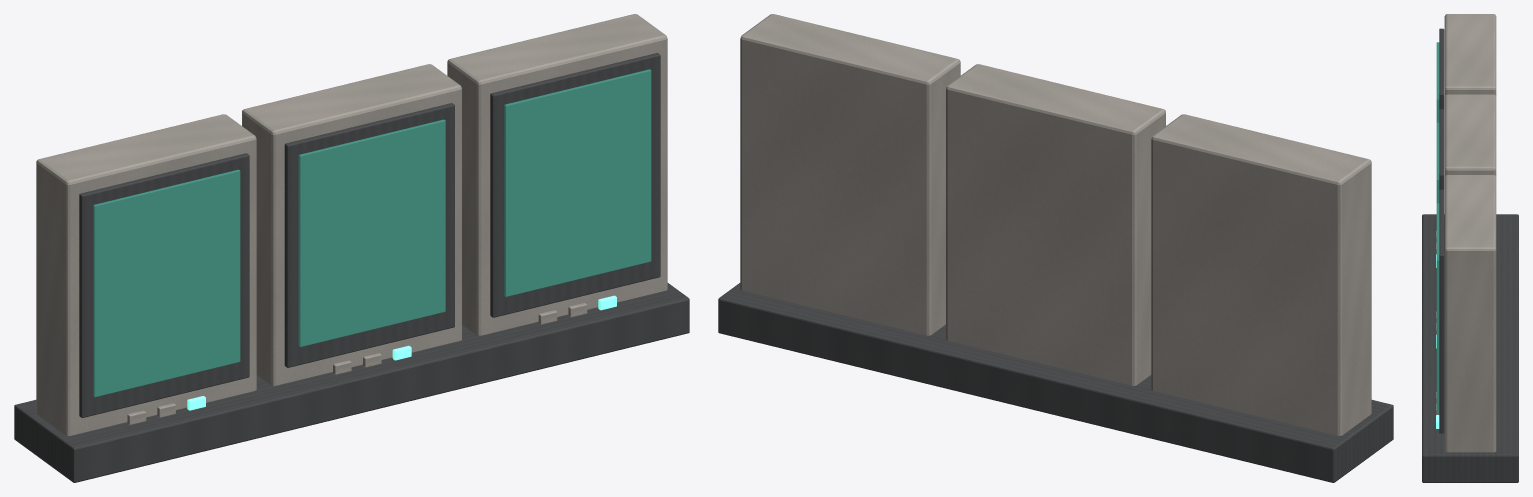
Rendered from monitor_bank.glb.
3 renders of one model, left to right at view 1: azimuth 30°, elevation 25°; view 2: azimuth 150°, elevation 25°; view 3: azimuth 270°, elevation 25°, orthographic. The views are drawn at different scales.
Visible parts, largest first — view 1: stand.003, monitor_screen_00.002, monitor_screen_01.002, monitor_screen_02.002, monitor_housing.009, monitor_housing.011, monitor_housing.010, monitor_bezel.007, monitor_bezel.006, monitor_bezel.008; view 2: monitor_housing.009, monitor_housing.011, monitor_housing.010, stand.003; view 3: monitor_housing.011, stand.003, monitor_housing.009, monitor_housing.010, monitor_bezel.008, monitor_screen_02.002, monitor_bezel.006, monitor_bezel.007, monitor_screen_00.002, monitor_screen_01.002.
Boxes of the visible parts, <box> form: stand.003: <box>14,283,689,482</box>; monitor_screen_00.002: <box>93,169,240,397</box>; monitor_screen_01.002: <box>298,119,445,346</box>; monitor_screen_02.002: <box>504,69,651,296</box>; monitor_housing.009: <box>36,114,256,435</box>; monitor_housing.011: <box>447,14,667,335</box>; monitor_housing.010: <box>242,64,461,385</box>; monitor_bezel.007: <box>284,103,454,367</box>; monitor_bezel.006: <box>79,153,249,417</box>; monitor_bezel.008: <box>490,53,660,317</box>; monitor_housing.009: <box>1151,114,1371,435</box>; monitor_housing.011: <box>740,14,960,335</box>; monitor_housing.010: <box>946,64,1165,385</box>; stand.003: <box>718,283,1393,482</box>; monitor_housing.011: <box>1444,175,1496,452</box>; stand.003: <box>1422,214,1518,482</box>; monitor_housing.009: <box>1444,14,1496,95</box>; monitor_housing.010: <box>1444,94,1496,176</box>; monitor_bezel.008: <box>1439,189,1444,433</box>; monitor_screen_02.002: <box>1436,203,1439,413</box>; monitor_bezel.006: <box>1439,28,1444,109</box>; monitor_bezel.007: <box>1439,109,1444,189</box>; monitor_screen_00.002: <box>1436,42,1439,122</box>; monitor_screen_01.002: <box>1436,122,1439,203</box>.
Size of the model in its own units: 1.65 by 0.74 by 0.28.
Materials: 4 (2 with a texture image).
